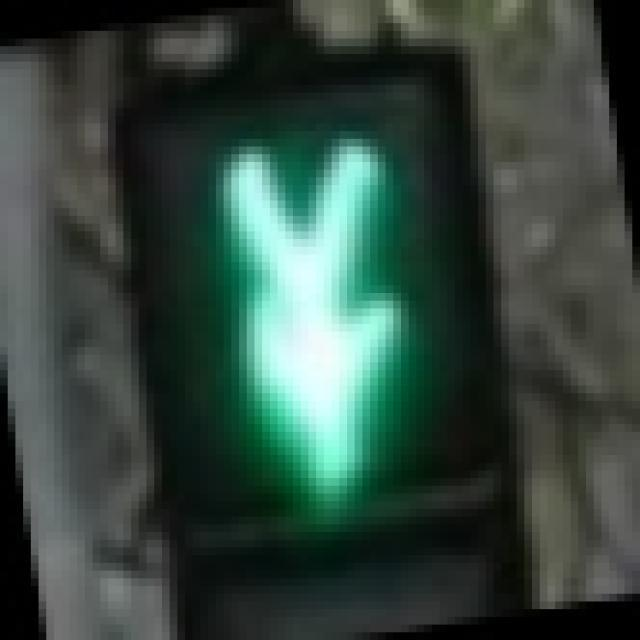green_light: (131, 77, 494, 548)
